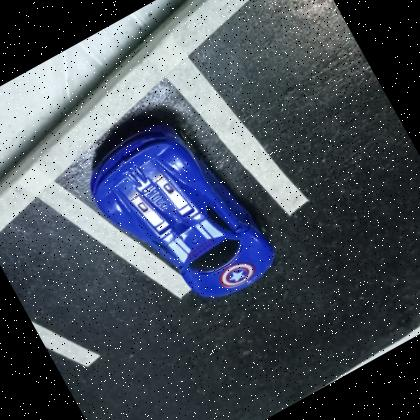Car: (89, 119, 275, 297)
